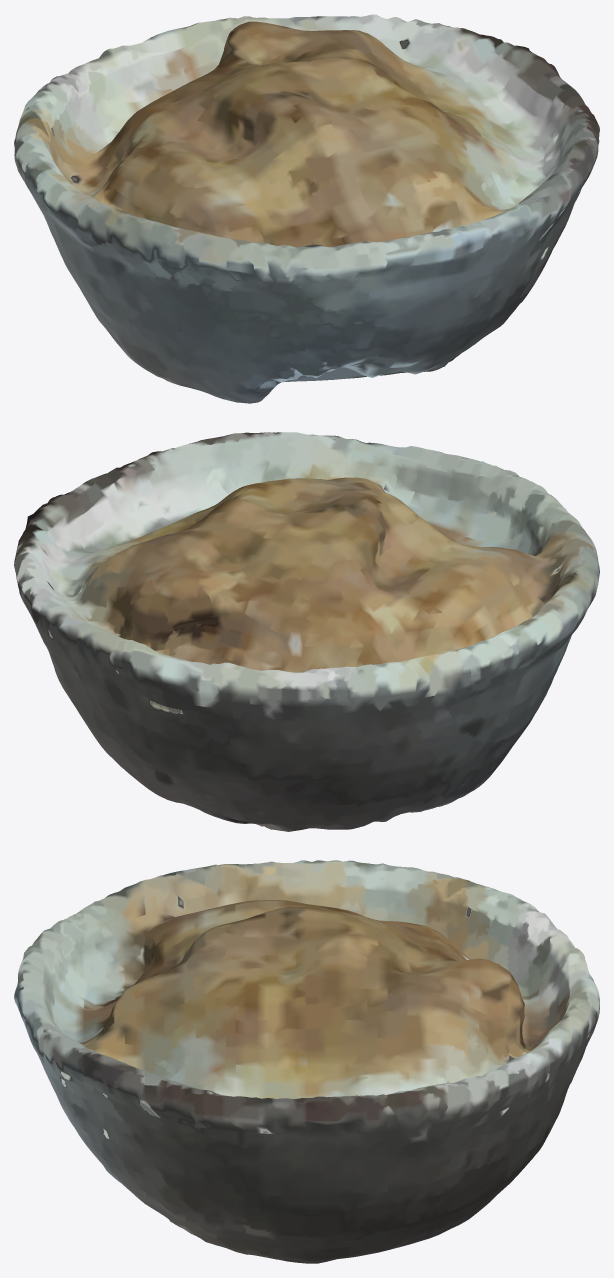
File: FinalModel.obj
3 renders of one model, top to bottom at view 1: azimuth 30°, elevation 25°; view 2: azimuth 150°, elevation 25°; view 3: azimuth 270°, elevation 25°, orthographic.
Size of the model in its own units: 0.1105 by 0.0593 by 0.1094.
